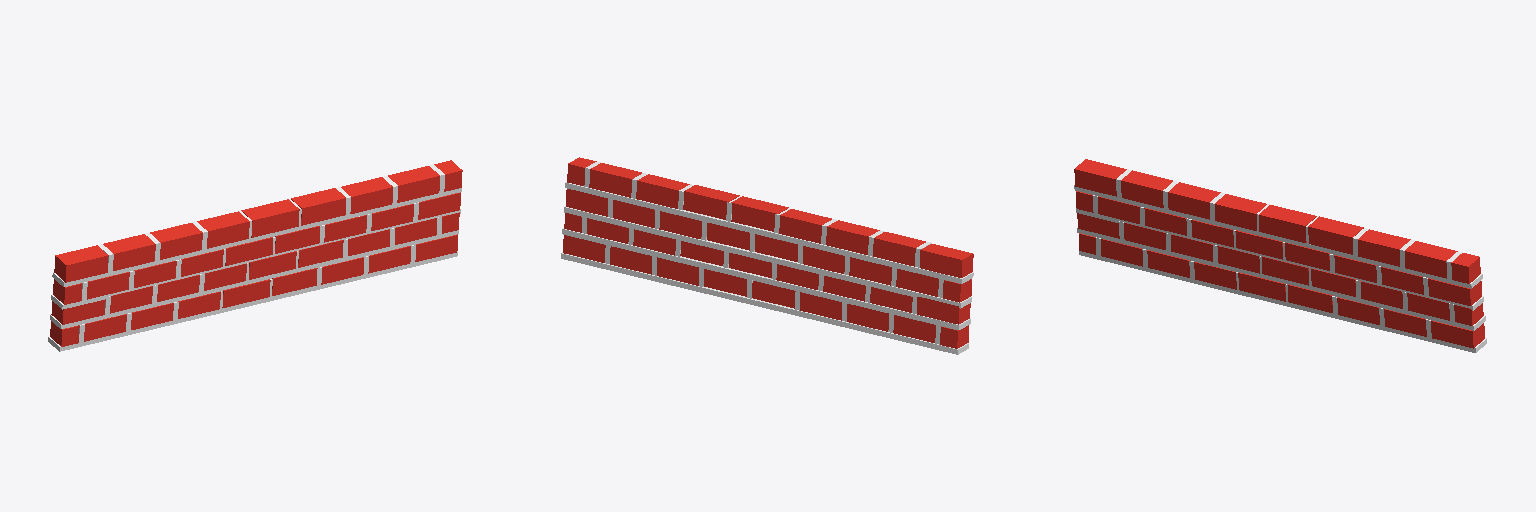
3 views of the same model, side by side, from view 1: azimuth 30°, elevation 25°; view 2: azimuth 150°, elevation 25°; view 3: azimuth 330°, elevation 25° (orthographic).
Visible parts, largest first — view 1: group[number redacted]; view 2: group[number redacted]; view 3: group[number redacted].
Boxes of the visible parts, box(x1,y1,x2,y2) form: group[number redacted]: box(48, 160, 462, 351); group[number redacted]: box(561, 157, 973, 354); group[number redacted]: box(1074, 159, 1486, 352).
Size of the model in its own units: 1.61 by 0.3621 by 0.1266.